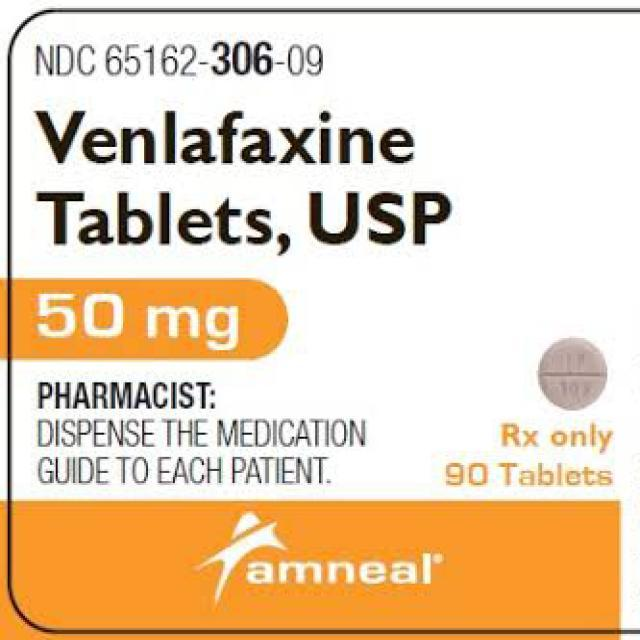drug-name: (32, 102, 423, 171)
